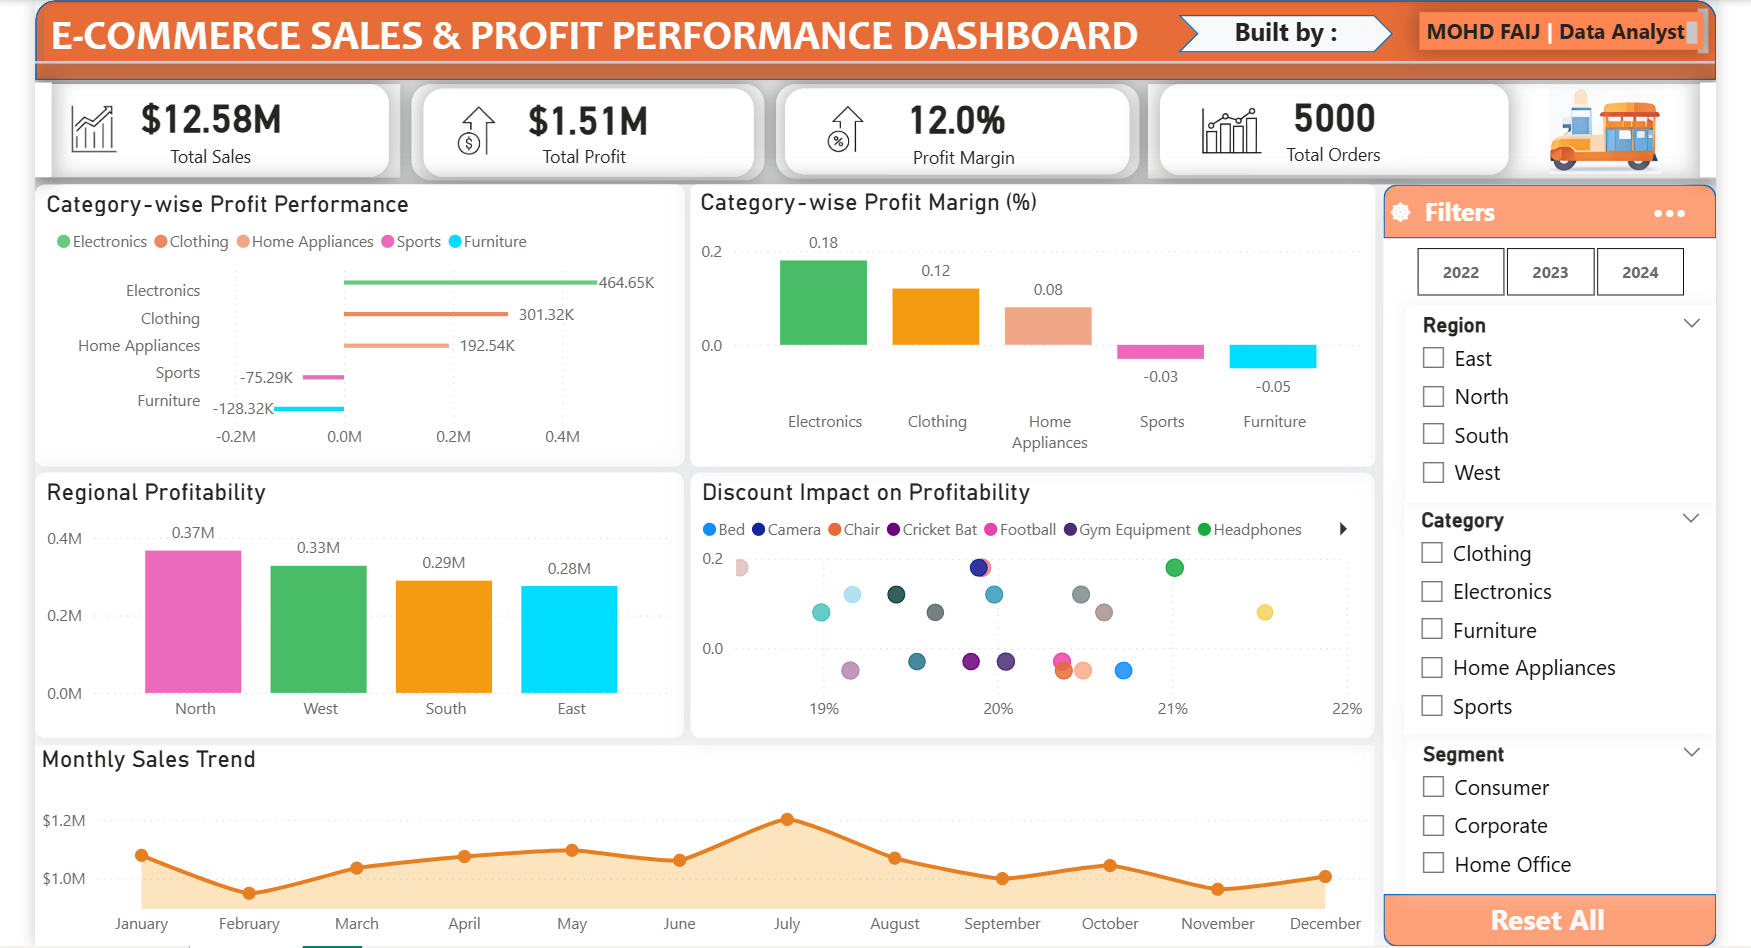

The dashboard page shown, as its layout file describes it:
{"tool":"powerbi","page":{"name":"Page 1","canvas":[1280,720],"ordinal":0},"visuals":[{"type":"textbox","box":[0,64.1,277.9,71.7],"z":0},{"type":"card","fields":{"Values":["Sum(Ecommerce_Project_Data.Sales)"]},"box":[0,64.1,269.1,70.4],"z":1000},{"type":"textbox","box":[286.9,64,268.6,73.1],"z":2000},{"type":"textbox","box":[563.4,64,276.6,72],"z":3000},{"type":"textbox","box":[847.6,63.6,432.5,71.7],"z":4000},{"type":"card","fields":{"Values":["Ecommerce_Project_Data.Profit1"]},"box":[296,67.4,251.4,67.4],"z":5000},{"type":"card","fields":{"Values":["Ecommerce_Project_Data.Profit margin"]},"box":[570.3,67.4,261.7,65.1],"z":6000},{"type":"card","title":"Total Orders","fields":{"Values":["CountNonNull(Ecommerce_Project_Data.Order_ID)"]},"box":[856.2,64.1,265.3,69.2],"z":7000},{"type":"textbox","box":[926.2,102.9,124.9,30.1],"z":8000},{"type":"textbox","box":[649.9,105.2,114.5,27.8],"z":9000},{"type":"textbox","box":[356.2,104.1,123.7,28.9],"z":10000},{"type":"textbox","box":[78.6,104.1,109.9,28.9],"z":11000},{"type":"textbox","box":[0,139.9,1280.1,579.3],"z":12000},{"type":"clusteredBarChart","title":"Category-wise Profit Performance","fields":{"Category":["Ecommerce_Project_Data.Category"],"Series":["Ecommerce_Project_Data.Category"],"Y":["Ecommerce_Project_Data.Adjusted Profit"]},"box":[0,140.4,494.3,214.6],"z":13000},{"type":"clusteredColumnChart","title":"Regional Profitability","fields":{"Category":["Ecommerce_Project_Data.Region"],"Y":["Ecommerce_Project_Data.Adjustedc Profit"]},"box":[0,359.6,494,202.1],"z":14000},{"type":"lineChart","title":"Monthly Sales Trend","fields":{"Category":["Ecommerce_Project_Data.Order_Date.Variation.Date Hierarchy.Month"],"Y":["Sum(Ecommerce_Project_Data.Sales)"]},"box":[0,567.4,1019.5,153],"z":15000},{"type":"scatterChart","title":"Discount Impact on Profitability","fields":{"X":["Ecommerce_Project_Data.avg dis"],"Size":["Sum(Ecommerce_Project_Data.Sales)"],"Y":["Ecommerce_Project_Data.Adjusted Profit Margin %"],"Series":["Ecommerce_Project_Data.Sub_Category"]},"box":[498.9,359.6,520.6,202.1],"z":16000},{"type":"clusteredColumnChart","title":"Category-wise Profit Marign (%)","fields":{"Category":["Ecommerce_Project_Data.Category"],"Y":["Ecommerce_Project_Data.Adjusted Profit Margin %"]},"box":[498.9,140.4,521,214.6],"z":17000},{"type":"shape","box":[1026.4,140.4,253.5,580],"z":18000},{"type":"shape","box":[1026.4,140.4,253.5,41.1],"z":19000},{"type":"shape","box":[1026.4,680.4,253.5,40],"z":20000},{"type":"slicer","fields":{"Values":["Ecommerce_Project_Data.Order_Date.Variation.Date Hierarchy.Year"]},"box":[1026.3,181.7,252.6,50.3],"z":21000},{"type":"slicer","fields":{"Values":["Ecommerce_Project_Data.Segment"]},"box":[1043,559.7,237,120.3],"z":22000},{"type":"slicer","fields":{"Values":["Ecommerce_Project_Data.Category"]},"box":[1042.5,381.2,237.5,177.5],"z":23000},{"type":"slicer","fields":{"Values":["Ecommerce_Project_Data.Region"]},"box":[1043,232.4,237,149.2],"z":24000},{"type":"shape","box":[0,0,1280.1,61.3],"z":25000},{"type":"image","box":[1110.9,66.3,168,66.3],"z":26000},{"type":"textbox","box":[6.9,1.1,1271.8,46.8],"z":27000},{"type":"textbox","box":[1053.4,9.3,216.2,28.9],"z":28000},{"type":"textbox","box":[1016.2,142.5,136.2,41.2],"z":29000},{"type":"textbox","box":[1226.2,140,53.8,45],"z":30000},{"type":"actionButton","box":[1037.8,679.3,227.2,38.8],"z":31000},{"type":"shape","box":[0,33.1,1278.7,28.5],"z":32000},{"type":"textbox","box":[0,62.8,12.6,71.9],"z":33000},{"type":"textbox","box":[1267.3,62.8,12.6,71.9],"z":34000},{"type":"shape","box":[870.5,11.2,163.7,28.5],"z":35000},{"type":"textbox","box":[896.5,6.2,111.6,38.4],"z":36000},{"type":"image","box":[12.5,80,66.2,36.2],"z":37000},{"type":"image","box":[887.5,80,48.8,38.8],"z":38000},{"type":"image","box":[286.2,80,98.8,40],"z":39000},{"type":"image","box":[563.8,80,106.2,37.5],"z":40000}]}

Visuals, with their boxes in screenshot pixels (x1, y1, x2, y2):
textbox: (left=137, top=79, right=498, bottom=172)
card - Sum(Ecommerce_Project_Data.Sales): (left=137, top=79, right=486, bottom=170)
textbox: (left=510, top=79, right=858, bottom=174)
textbox: (left=869, top=79, right=1228, bottom=172)
textbox: (left=1238, top=78, right=1750, bottom=171)
card - Ecommerce_Project_Data.Profit1: (left=521, top=83, right=848, bottom=171)
card - Ecommerce_Project_Data.Profit margin: (left=878, top=83, right=1218, bottom=168)
"Total Orders" card: (left=1249, top=79, right=1594, bottom=169)
textbox: (left=1340, top=129, right=1502, bottom=168)
textbox: (left=981, top=132, right=1130, bottom=168)
textbox: (left=600, top=131, right=760, bottom=168)
textbox: (left=239, top=131, right=382, bottom=168)
textbox: (left=137, top=177, right=1750, bottom=930)
"Category-wise Profit Performance" clusteredBarChart: (left=137, top=178, right=779, bottom=457)
"Regional Profitability" clusteredColumnChart: (left=137, top=463, right=779, bottom=725)
"Monthly Sales Trend" lineChart: (left=137, top=733, right=1461, bottom=931)
"Discount Impact on Profitability" scatterChart: (left=785, top=463, right=1461, bottom=725)
"Category-wise Profit Marign (%)" clusteredColumnChart: (left=785, top=178, right=1462, bottom=457)
shape: (left=1470, top=178, right=1750, bottom=931)
shape: (left=1470, top=178, right=1750, bottom=231)
shape: (left=1470, top=879, right=1750, bottom=931)
slicer - Ecommerce_Project_Data.Order_Date.Variation.Date Hierarchy.Year: (left=1470, top=231, right=1750, bottom=297)
slicer - Ecommerce_Project_Data.Segment: (left=1492, top=723, right=1750, bottom=879)
slicer - Ecommerce_Project_Data.Category: (left=1491, top=491, right=1750, bottom=721)
slicer - Ecommerce_Project_Data.Region: (left=1492, top=297, right=1750, bottom=491)
shape: (left=137, top=0, right=1750, bottom=75)
image: (left=1580, top=82, right=1750, bottom=168)
textbox: (left=146, top=0, right=1750, bottom=58)
textbox: (left=1505, top=8, right=1750, bottom=45)
textbox: (left=1457, top=181, right=1634, bottom=234)
textbox: (left=1730, top=177, right=1750, bottom=236)
actionButton: (left=1485, top=878, right=1750, bottom=928)
shape: (left=137, top=38, right=1750, bottom=75)
textbox: (left=137, top=77, right=153, bottom=170)
shape: (left=1268, top=10, right=1480, bottom=47)
textbox: (left=1301, top=3, right=1446, bottom=53)
image: (left=153, top=99, right=239, bottom=146)
image: (left=1290, top=99, right=1353, bottom=150)
image: (left=509, top=99, right=637, bottom=151)
image: (left=869, top=99, right=1007, bottom=148)
